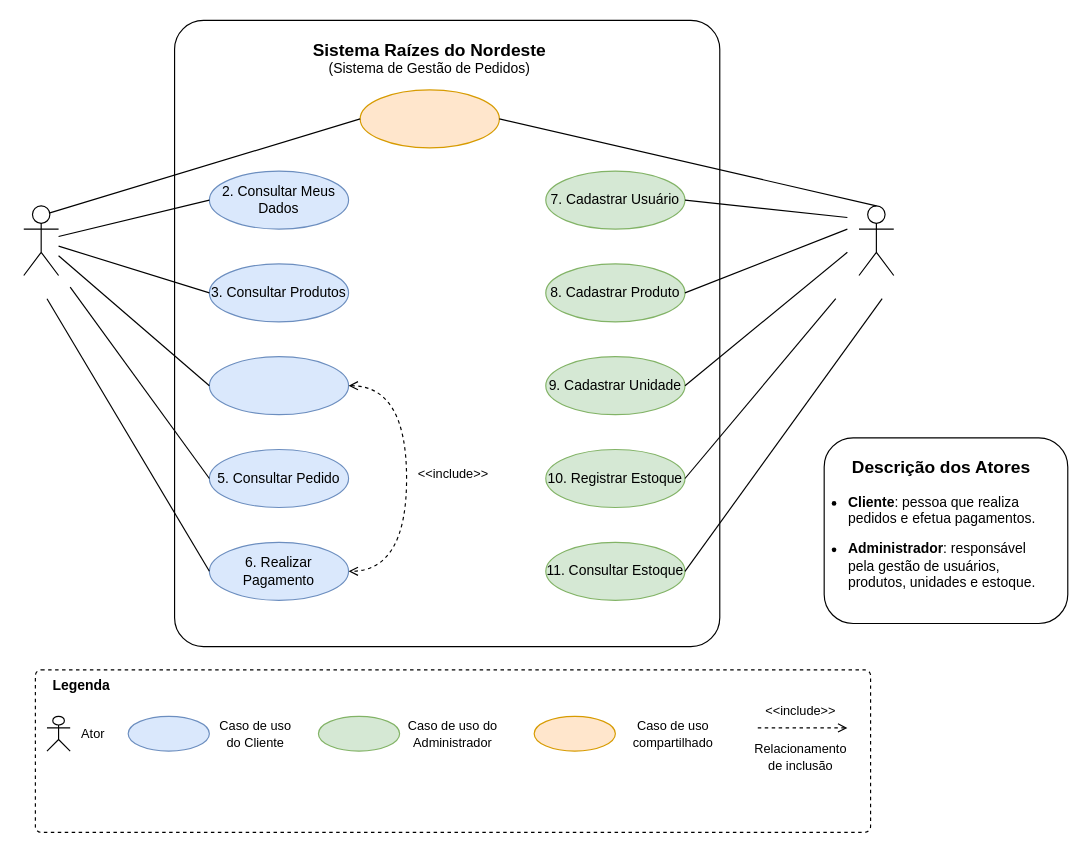
The diagram is 1088 pixels wide and 853 high, and some of its shapes have lost their labels. Each missing label, with the centre of its shape:
1. Realiza login: (429,118)
4. Criar Pedido: (278,385)
Administrador: (876,240)
Cliente: (41,240)
